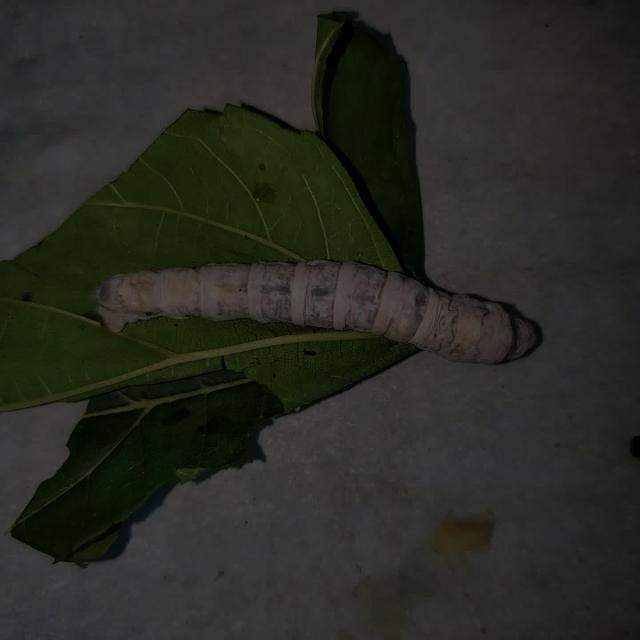Grasserie: (79, 235, 553, 399)
